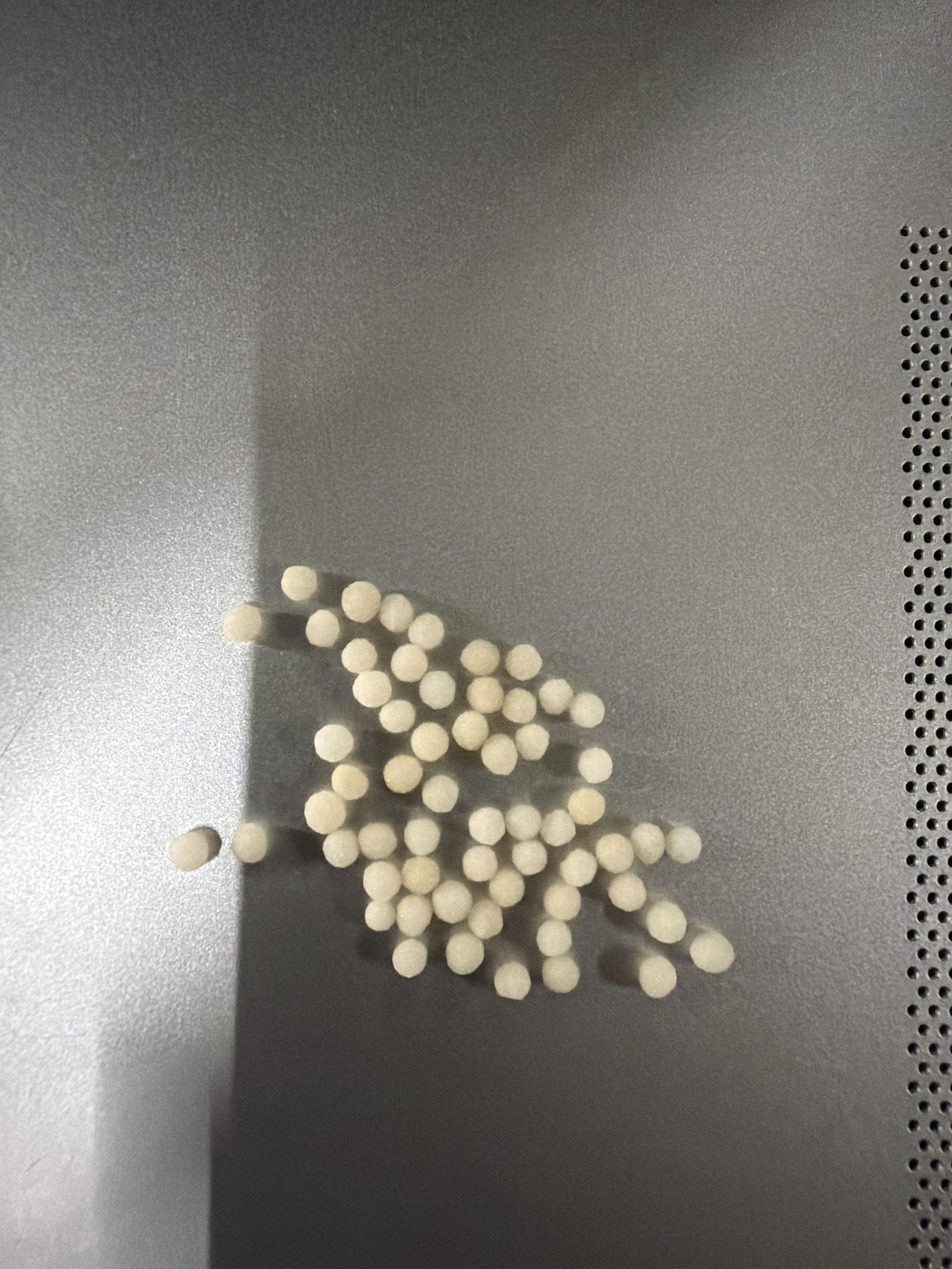pill: (168, 826, 221, 871), (642, 899, 686, 944), (688, 930, 734, 973), (431, 879, 473, 924), (304, 789, 346, 834), (637, 954, 677, 998), (445, 930, 484, 975), (230, 822, 270, 864), (341, 581, 381, 623), (595, 832, 634, 874), (480, 733, 518, 776), (382, 754, 422, 794), (223, 603, 264, 642), (396, 893, 432, 937), (559, 847, 598, 887), (401, 855, 440, 895), (314, 724, 354, 763), (608, 871, 646, 912), (363, 860, 401, 901), (358, 821, 397, 860), (543, 881, 581, 921), (421, 774, 459, 814), (411, 722, 449, 762), (418, 670, 456, 710), (390, 643, 428, 683), (352, 670, 392, 708), (452, 710, 489, 751), (467, 898, 503, 940), (567, 787, 605, 826), (468, 807, 506, 846), (493, 960, 530, 1000), (403, 816, 440, 856), (460, 639, 500, 676), (630, 822, 665, 864), (331, 763, 369, 801), (407, 613, 445, 651), (322, 829, 359, 868), (378, 593, 414, 633), (542, 956, 580, 993), (467, 676, 505, 713), (489, 868, 524, 908), (505, 644, 542, 681), (536, 918, 572, 956), (462, 844, 498, 882), (281, 566, 319, 602), (540, 808, 575, 847), (392, 939, 427, 978), (305, 609, 340, 648), (665, 826, 701, 863), (577, 747, 613, 784), (538, 678, 574, 715), (378, 699, 416, 734), (505, 804, 541, 840), (569, 691, 604, 728), (514, 723, 549, 760), (512, 840, 547, 876), (342, 637, 376, 674), (502, 688, 536, 724), (364, 900, 396, 932)
